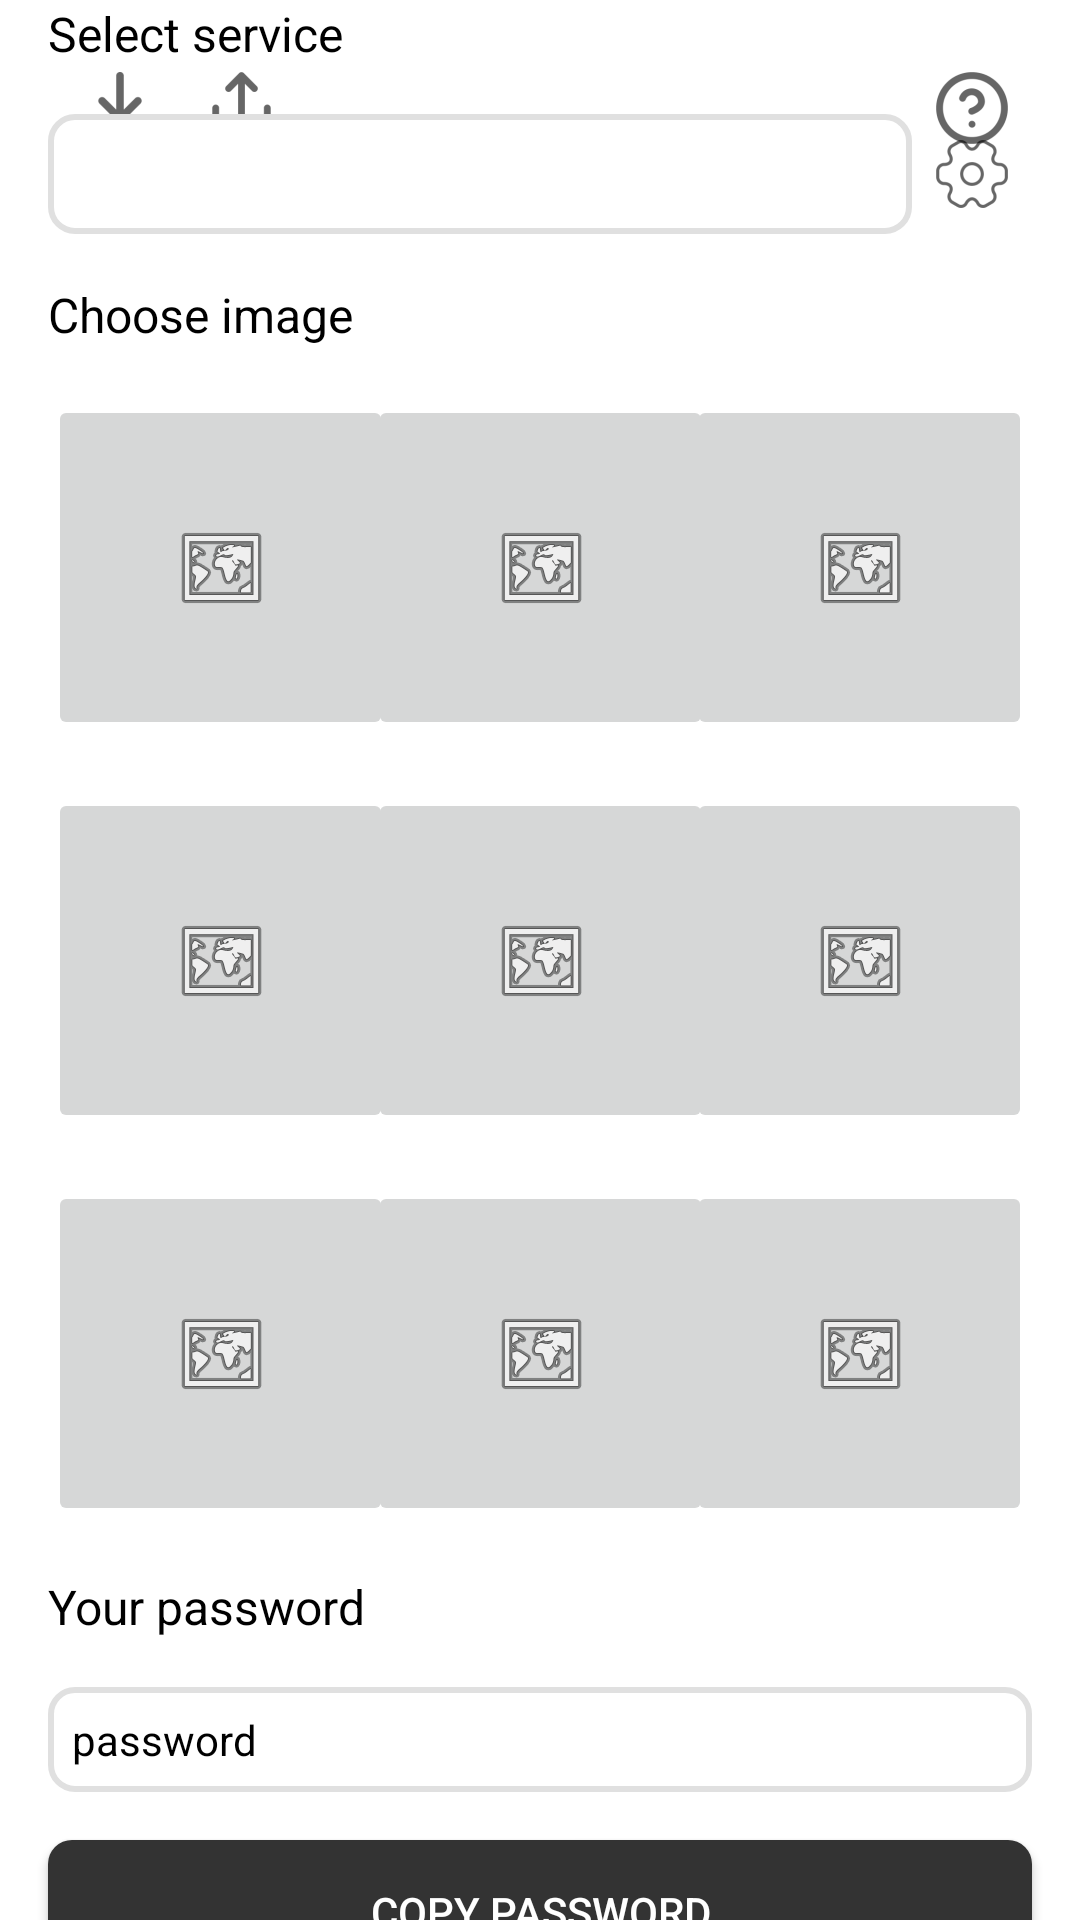

Named icons in this screenshot (1080w x 1920h) and their centers, point (x, y):
help: point (972, 120)
setup: point (972, 161)
